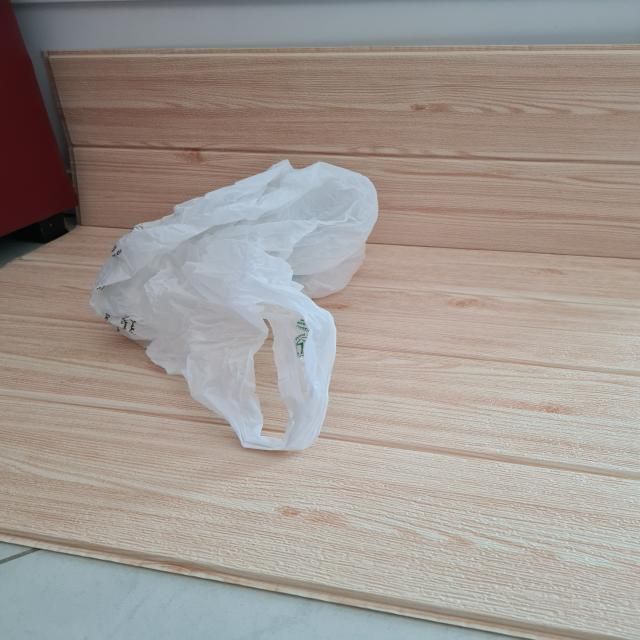Plastic_Bag: (76, 160, 388, 457)
